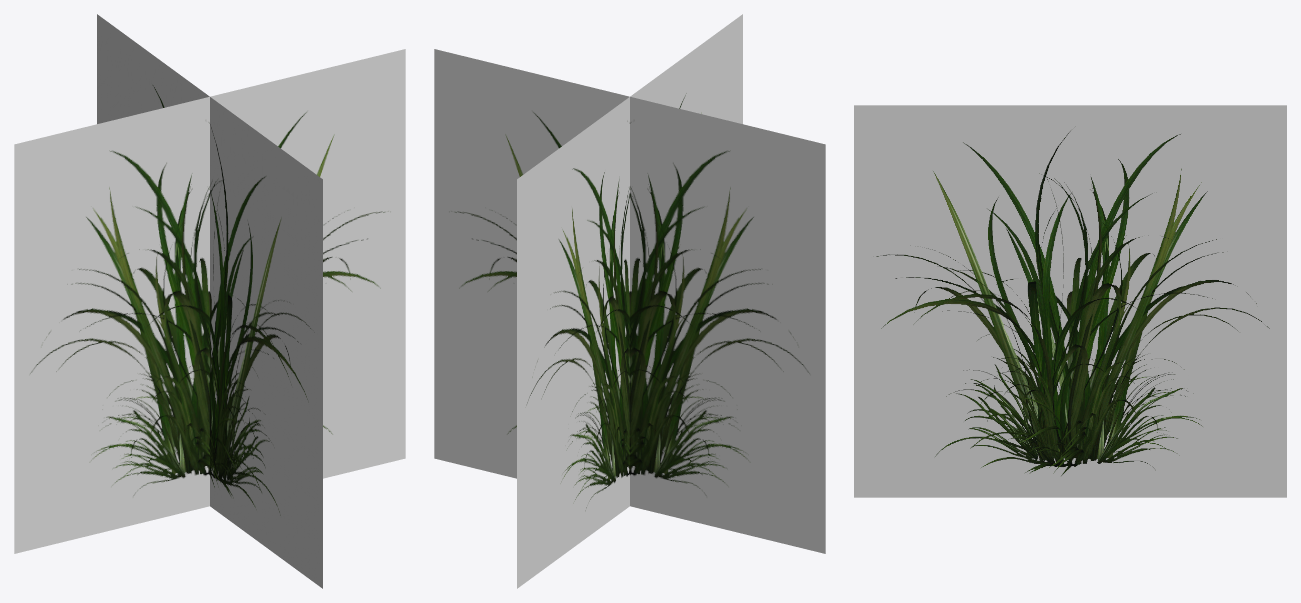
Rendered from grass.fbx.
3 renders of one model, left to right at view 1: azimuth 30°, elevation 25°; view 2: azimuth 150°, elevation 25°; view 3: azimuth 270°, elevation 25°, orthographic. The views are drawn at different scales.
Parts seen in each view (by area): view 1: pPlane9; view 2: pPlane9; view 3: pPlane9.
Part boxes in pixels (box(x1,y1,x2,y2)): pPlane9: box(14, 14, 405, 588); pPlane9: box(434, 14, 825, 588); pPlane9: box(854, 105, 1286, 497).
Bounding box in the file's own units: 20 × 20 × 20.
